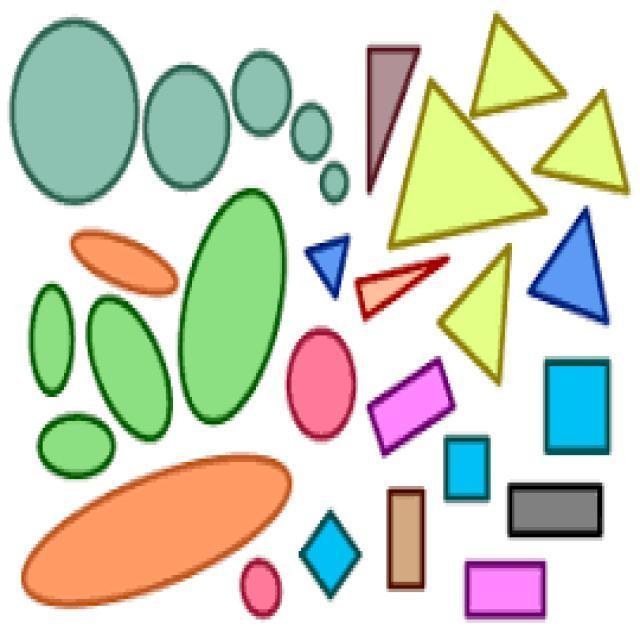circle: (0, 6, 139, 210), (138, 44, 232, 198), (287, 319, 362, 451), (229, 40, 295, 137), (285, 90, 342, 169), (237, 548, 289, 624), (313, 152, 362, 211)
square: (534, 343, 622, 465), (453, 548, 568, 638), (437, 426, 499, 513)
triangle: (390, 63, 544, 252), (466, 2, 584, 123), (528, 73, 632, 195), (524, 210, 630, 329), (438, 236, 520, 389), (300, 229, 356, 299)
